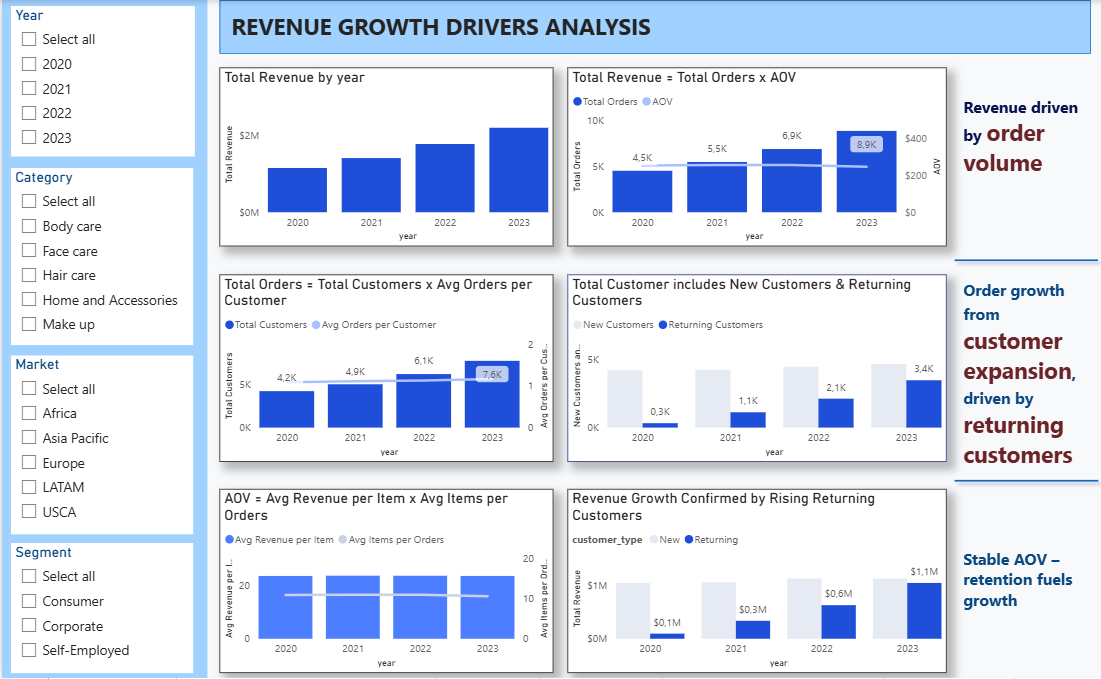

The dashboard page shown, as its layout file describes it:
{"tool":"powerbi","page":{"name":"Revenue Growth Drivers","canvas":[1300,800],"ordinal":1},"visuals":[{"type":"shape","box":[0,0,242,800.9],"z":0},{"type":"clusteredColumnChart","fields":{"Category":["date.year"],"Y":["sales.Total Revenue"]},"box":[255.8,78.7,393.5,210.5],"z":1000},{"type":"lineClusteredColumnComboChart","title":"Total Revenue = Total Orders x AOV","fields":{"Category":["date.year"],"Y2":["sales.AOV"],"Y":["sales.Total Orders"]},"box":[667.1,78.7,446.7,210.5],"z":2000},{"type":"lineClusteredColumnComboChart","title":"Total Orders = Total Customers x Avg Orders per Customer","fields":{"Category":["date.year"],"Y":["sales.Total Customers"],"Y2":["sales.Avg Orders per Customer"]},"box":[255.8,322.7,393.5,220.4],"z":3000},{"type":"lineClusteredColumnComboChart","title":"AOV = Avg Revenue per Item x Avg Items per Orders","fields":{"Category":["date.year"],"Y2":["sales.Avg Items per Orders"],"Y":["sales.Avg Revenue per Item"]},"box":[255.8,576.5,393.5,216.5],"z":4000},{"type":"clusteredColumnChart","title":"Revenue Growth Confirmed by Rising Returning Customers","fields":{"Category":["date.year"],"Y":["sales.Total Revenue"],"Series":["sales.customer_type"]},"box":[667.1,576.5,446.7,216.5],"z":5000},{"type":"clusteredColumnChart","title":"Total Customer includes New Customers & Returning Customers","fields":{"Category":["date.year"],"Y":["sales.New Customers","sales.Returning Customers"]},"box":[667.1,322.7,446.7,220.4],"z":6000},{"type":"slicer","title":"Market","fields":{"Values":["dim_region.market"]},"box":[9.8,418,214.5,210.5],"z":7000},{"type":"slicer","title":"Segment","fields":{"Values":["sales.segment"]},"box":[9.8,639.5,214.5,153.5],"z":8000},{"type":"slicer","title":"Year","fields":{"Values":["date.year"]},"box":[9.8,7.9,216.5,177.1],"z":9000},{"type":"slicer","title":"Category","fields":{"Values":["dim_product.category"]},"box":[9.8,198,214.5,208.6],"z":10000},{"type":"shape","box":[256.3,0,1026.8,63.6],"z":11000},{"type":"textbox","box":[265.6,7.9,1007.5,74.8],"z":12000},{"type":"shape","box":[1113.7,263.7,186.9,86.6],"z":13000},{"type":"shape","box":[1113.4,523.1,187.3,86.6],"z":14000},{"type":"textbox","box":[1127.5,108.2,169.2,155.5],"z":15000},{"type":"textbox","box":[1127.5,322.7,169.2,236.1],"z":16000},{"type":"textbox","box":[1127.5,639.5,169.2,106.3],"z":17000}]}

Visuals, with their boxes in screenshot pixels (x1, y1, x2, y2), scaled from the page's 1300x800 canvas onto the 1101x679 screenshot:
shape: {"left": 0, "top": 0, "right": 205, "bottom": 678}
clusteredColumnChart - date.year x sales.Total Revenue: {"left": 217, "top": 67, "right": 550, "bottom": 245}
"Total Revenue = Total Orders x AOV" lineClusteredColumnComboChart: {"left": 565, "top": 67, "right": 943, "bottom": 245}
"Total Orders = Total Customers x Avg Orders per Customer" lineClusteredColumnComboChart: {"left": 217, "top": 274, "right": 550, "bottom": 461}
"AOV = Avg Revenue per Item x Avg Items per Orders" lineClusteredColumnComboChart: {"left": 217, "top": 489, "right": 550, "bottom": 673}
"Revenue Growth Confirmed by Rising Returning Customers" clusteredColumnChart: {"left": 565, "top": 489, "right": 943, "bottom": 673}
"Total Customer includes New Customers & Returning Customers" clusteredColumnChart: {"left": 565, "top": 274, "right": 943, "bottom": 461}
"Market" slicer: {"left": 8, "top": 355, "right": 190, "bottom": 533}
"Segment" slicer: {"left": 8, "top": 543, "right": 190, "bottom": 673}
"Year" slicer: {"left": 8, "top": 7, "right": 192, "bottom": 157}
"Category" slicer: {"left": 8, "top": 168, "right": 190, "bottom": 345}
shape: {"left": 217, "top": 0, "right": 1087, "bottom": 54}
textbox: {"left": 225, "top": 7, "right": 1078, "bottom": 70}
shape: {"left": 943, "top": 224, "right": 1100, "bottom": 297}
shape: {"left": 943, "top": 444, "right": 1100, "bottom": 517}
textbox: {"left": 955, "top": 92, "right": 1098, "bottom": 224}
textbox: {"left": 955, "top": 274, "right": 1098, "bottom": 474}
textbox: {"left": 955, "top": 543, "right": 1098, "bottom": 633}
